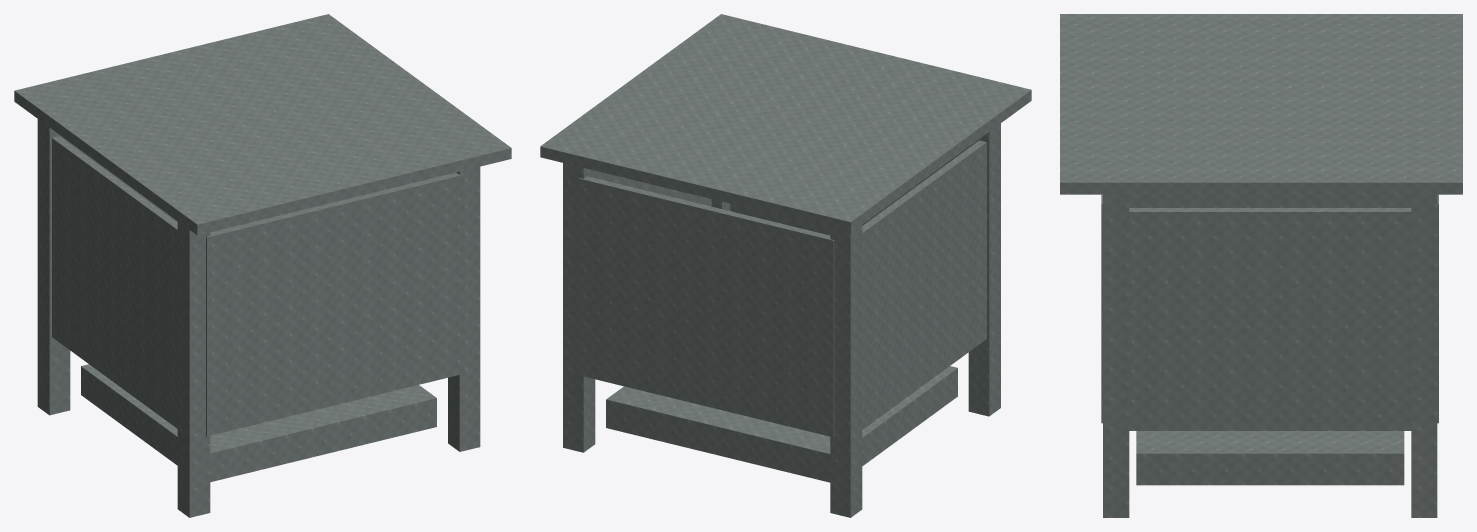
The model's file is PZ_Mossfield_CompostBin_SIMPLE_COLLISION_HELPERS.glb.
3 views of the same model, side by side, from view 1: azimuth 30°, elevation 25°; view 2: azimuth 150°, elevation 25°; view 3: azimuth 270°, elevation 25° (orthographic). The views are drawn at different scales.
Parts seen in each view (by area): view 1: UCX_PZCompost_Lid_Cover, UCX_PZCompost_SlatFace_Front, UCX_PZCompost_SlatFace_Left, UCX_PZCompost_Tray_Solid, UCX_PZCompost_BodyPost_L_F, UCX_PZCompost_BodyPost_R_F, UCX_PZCompost_BodyPost_L_B; view 2: UCX_PZCompost_Lid_Cover, UCX_PZCompost_SlatFace_Rear, UCX_PZCompost_SlatFace_Left, UCX_PZCompost_Tray_Solid, UCX_PZCompost_BodyPost_L_B, UCX_PZCompost_BodyPost_R_B, UCX_PZCompost_BodyPost_L_F, UCX_PZCompost_SlatFace_Front, UCX_PZCompost_SlatFace_Right; view 3: UCX_PZCompost_Lid_Cover, UCX_PZCompost_SlatFace_Right, UCX_PZCompost_Tray_Solid, UCX_PZCompost_BodyPost_R_B, UCX_PZCompost_BodyPost_R_F, UCX_PZCompost_SlatFace_Left, UCX_PZCompost_SlatFace_Front, UCX_PZCompost_SlatFace_Rear.
Part boxes in pixels (box(x1,y1,x2,y2)): UCX_PZCompost_Lid_Cover: box(14, 14, 511, 235); UCX_PZCompost_SlatFace_Front: box(206, 172, 464, 436); UCX_PZCompost_SlatFace_Left: box(52, 136, 177, 428); UCX_PZCompost_Tray_Solid: box(81, 364, 436, 482); UCX_PZCompost_BodyPost_L_F: box(177, 221, 210, 517); UCX_PZCompost_BodyPost_R_F: box(448, 166, 480, 451); UCX_PZCompost_BodyPost_L_B: box(37, 119, 70, 415); UCX_PZCompost_Lid_Cover: box(540, 14, 1031, 232); UCX_PZCompost_SlatFace_Rear: box(578, 176, 834, 437); UCX_PZCompost_SlatFace_Left: box(862, 140, 986, 429); UCX_PZCompost_Tray_Solid: box(606, 366, 957, 482); UCX_PZCompost_BodyPost_L_B: box(830, 225, 862, 517); UCX_PZCompost_BodyPost_R_B: box(563, 163, 595, 452); UCX_PZCompost_BodyPost_L_F: box(968, 123, 1000, 416); UCX_PZCompost_SlatFace_Front: box(730, 147, 968, 235); UCX_PZCompost_SlatFace_Right: box(595, 171, 711, 206); UCX_PZCompost_Lid_Cover: box(1060, 14, 1462, 194); UCX_PZCompost_SlatFace_Right: box(1129, 208, 1411, 430); UCX_PZCompost_Tray_Solid: box(1136, 431, 1404, 485); UCX_PZCompost_BodyPost_R_B: box(1411, 194, 1437, 517); UCX_PZCompost_BodyPost_R_F: box(1103, 194, 1129, 517); UCX_PZCompost_SlatFace_Left: box(1129, 194, 1411, 207); UCX_PZCompost_SlatFace_Front: box(1101, 194, 1102, 423); UCX_PZCompost_SlatFace_Rear: box(1437, 194, 1438, 423).
Bounding box in the file's own units: 1.14 × 1.08 × 1.15.
Materials: 1 (1 with a texture image).
